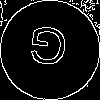G: (25, 25, 70, 76)
